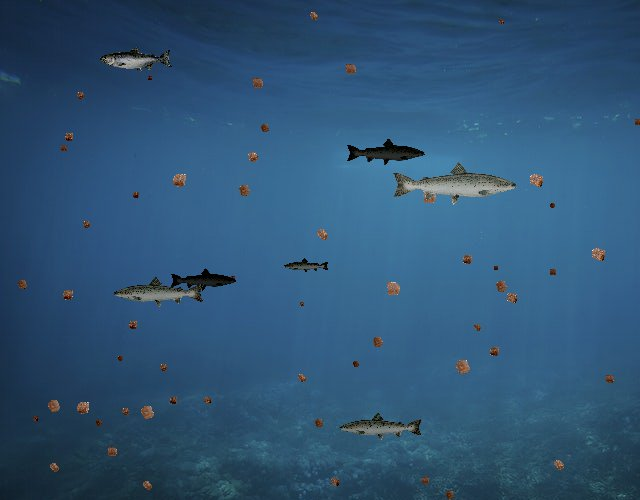Fish: (390, 160, 519, 206), (112, 275, 206, 309), (338, 411, 424, 442), (346, 138, 427, 167), (100, 47, 173, 73), (170, 268, 238, 292), (284, 258, 331, 275)
Pellet: (165, 167, 193, 195), (310, 222, 334, 246), (232, 179, 256, 203), (241, 146, 264, 169), (12, 274, 33, 295), (78, 217, 94, 233), (546, 200, 559, 213), (29, 412, 41, 424)
